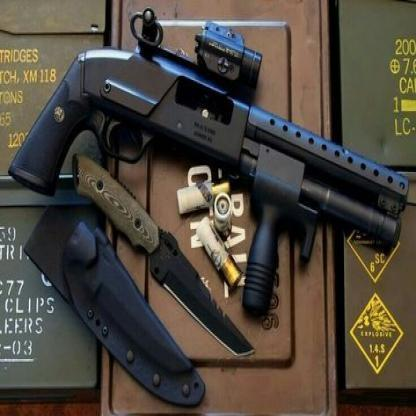Gun: (9, 6, 409, 320)
Knife: (71, 152, 262, 359)
